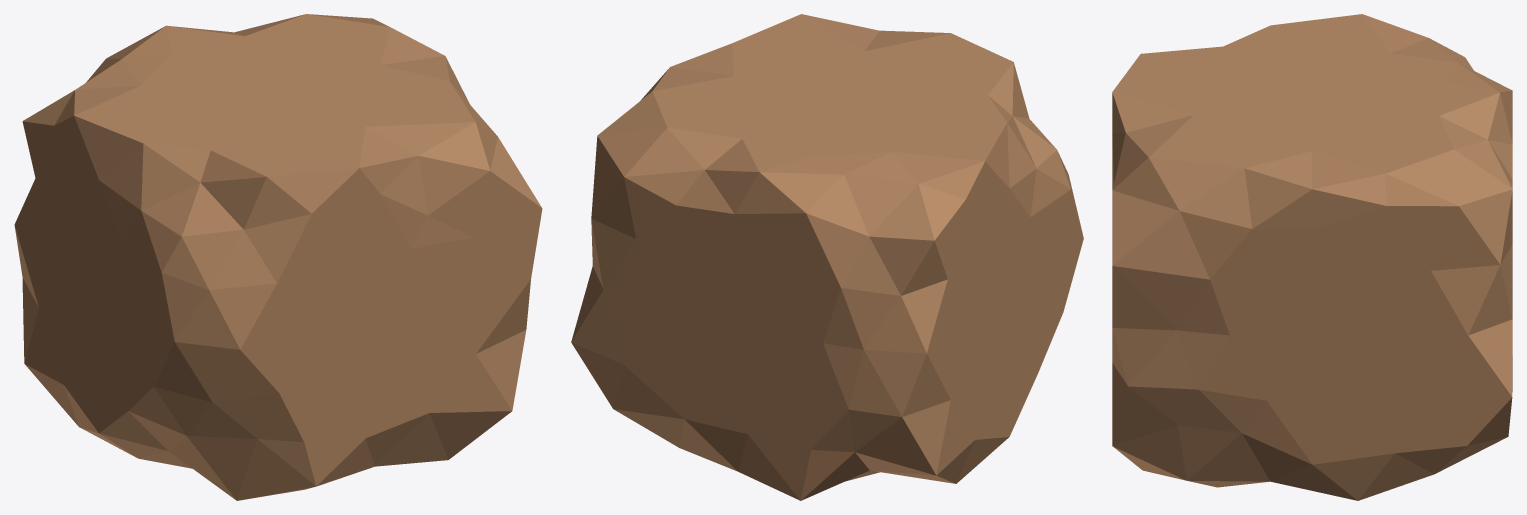
The model's file is rock.glb.
The picture shows the model from 3 angles, left to right: view 1: azimuth 30°, elevation 25°; view 2: azimuth 150°, elevation 25°; view 3: azimuth 270°, elevation 25°; orthographic projection. The views are drawn at different scales.
Visible parts, largest first — view 1: Rock; view 2: Rock; view 3: Rock.
Part boxes in pixels (x1,y1,x2,y2): Rock: (14, 14, 542, 500); Rock: (571, 14, 1083, 500); Rock: (1112, 14, 1512, 500).
Size of the model in its own units: 1 by 0.92 by 1.
